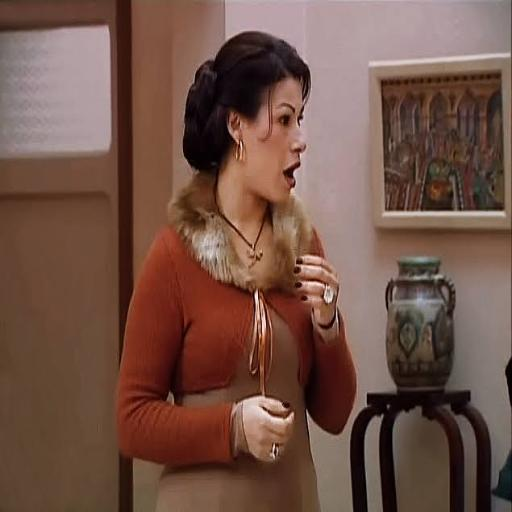zeineb: (219, 76, 306, 223)
